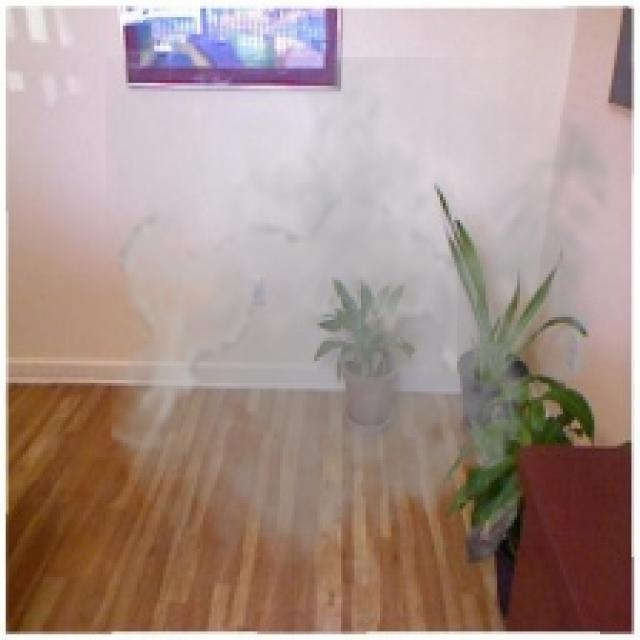Smoke: (106, 57, 628, 589)
